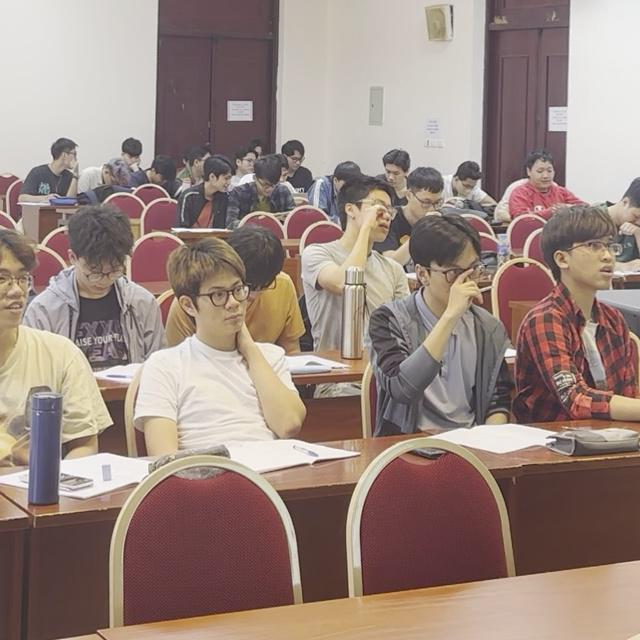Looking away: (74, 252, 124, 296), (408, 189, 446, 220), (529, 160, 557, 192), (384, 161, 410, 187), (254, 174, 281, 198), (455, 178, 479, 198), (215, 171, 232, 196), (150, 167, 171, 186), (286, 150, 304, 171), (64, 149, 80, 171), (121, 154, 143, 166), (104, 172, 122, 186)
Looking forward: (199, 269, 246, 338), (432, 251, 485, 312), (570, 231, 620, 288), (359, 192, 394, 242)
